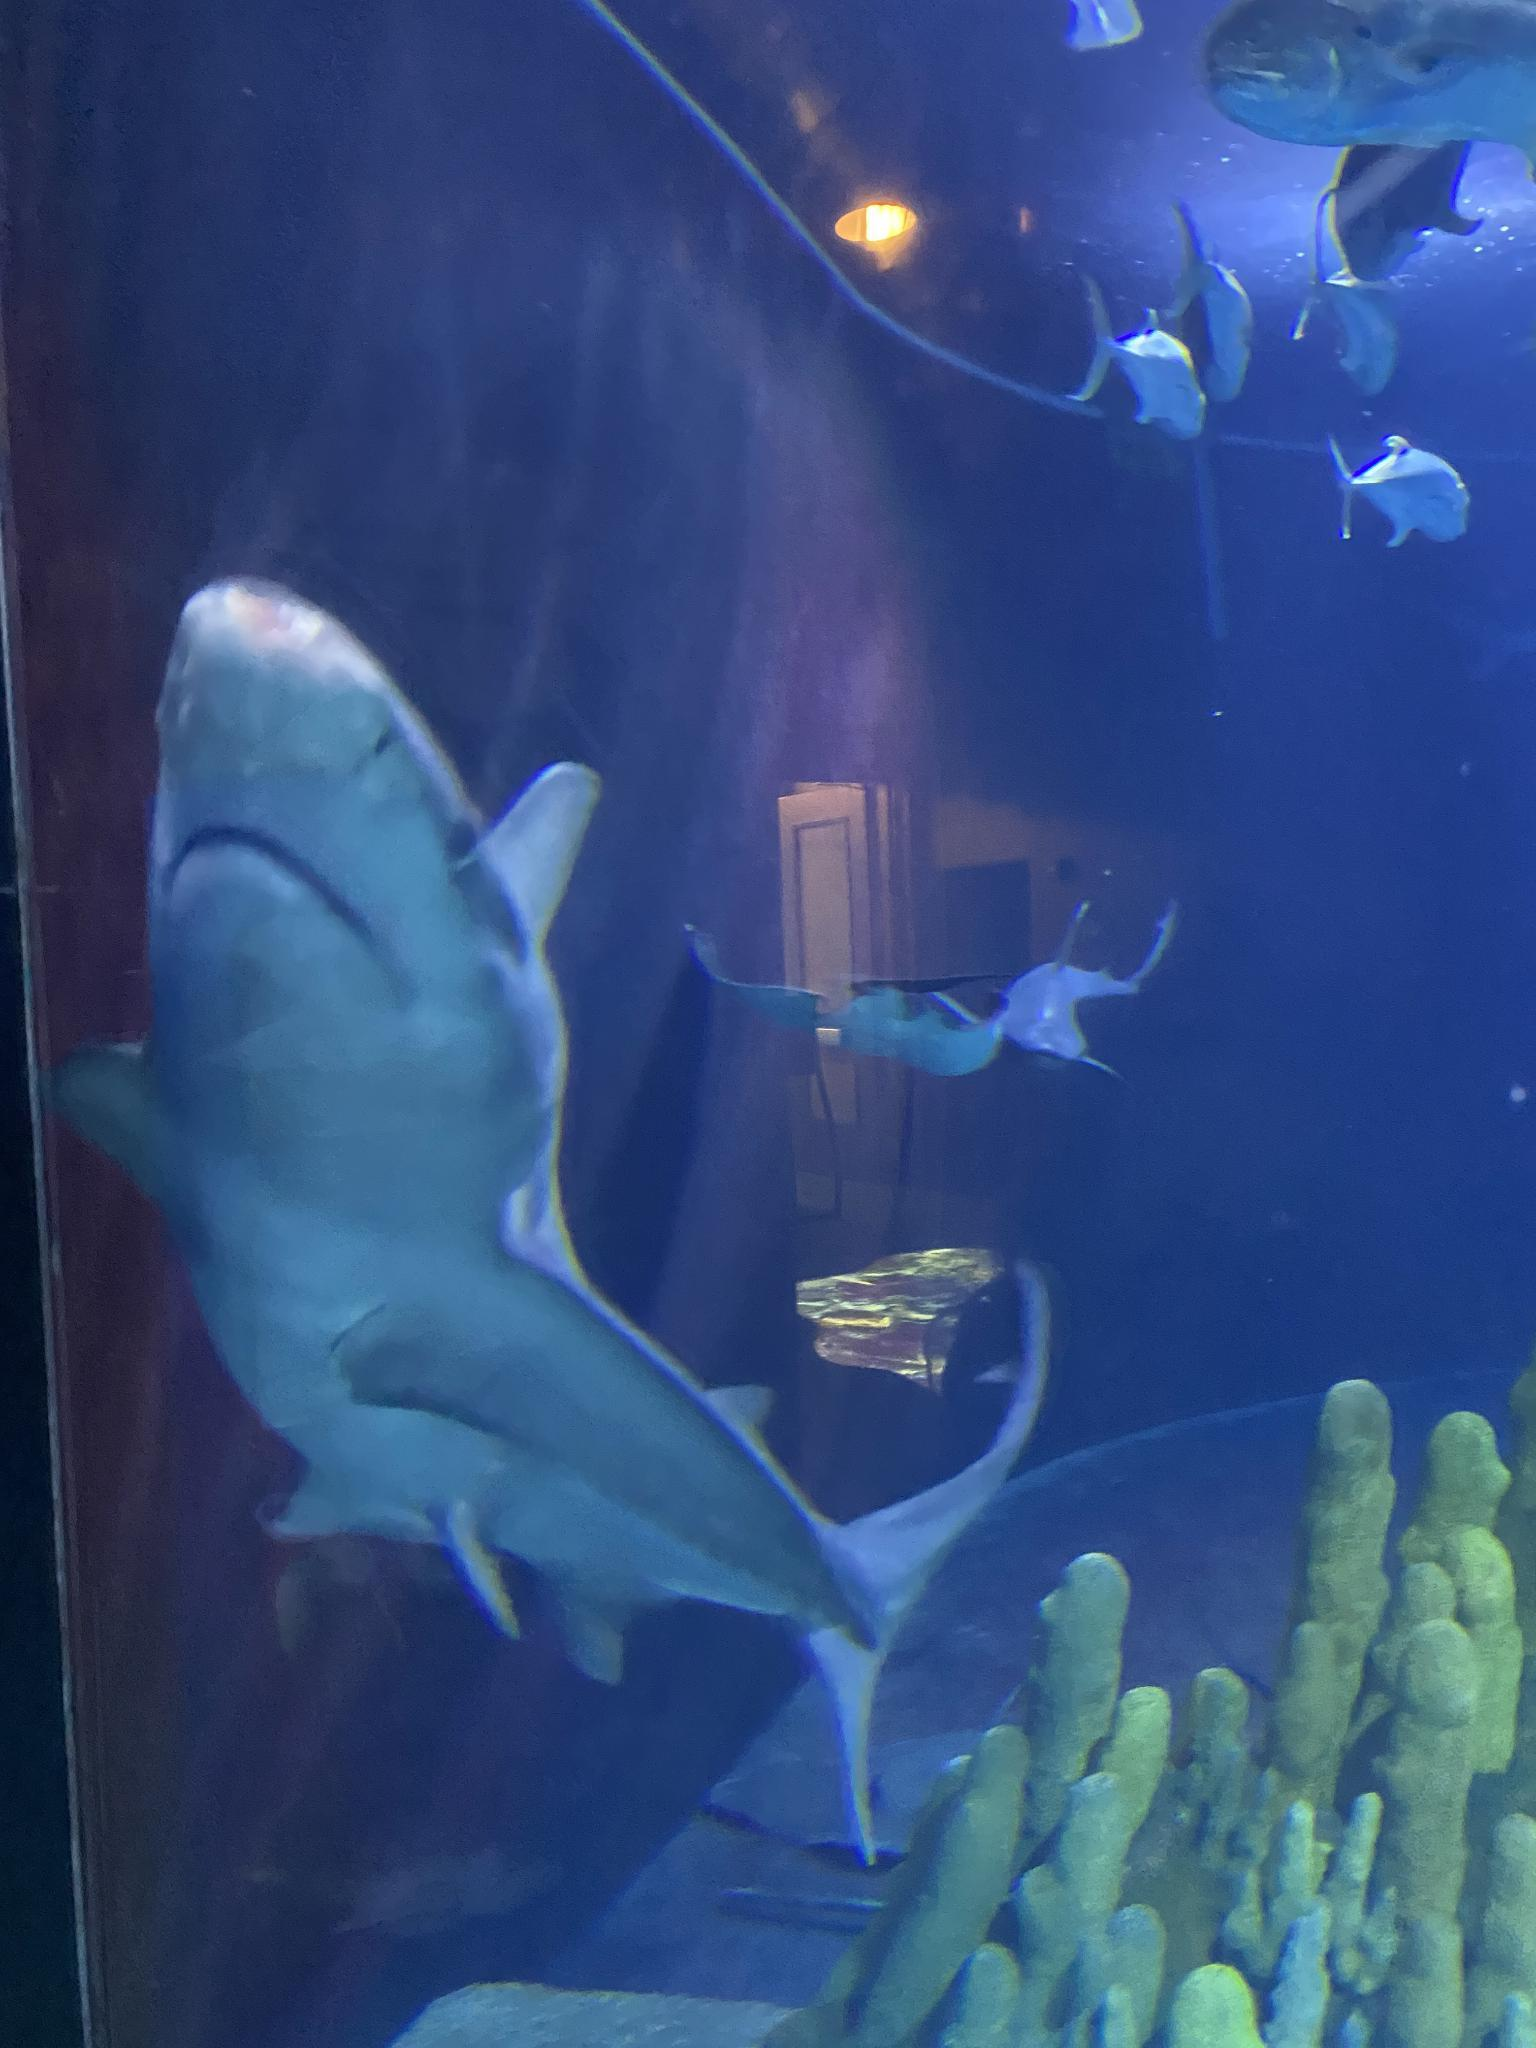fish: (1181, 10, 1536, 198), (1075, 306, 1204, 448), (1300, 247, 1412, 406), (1325, 447, 1480, 555), (1170, 239, 1270, 398)
shark: (65, 569, 1054, 1850)
